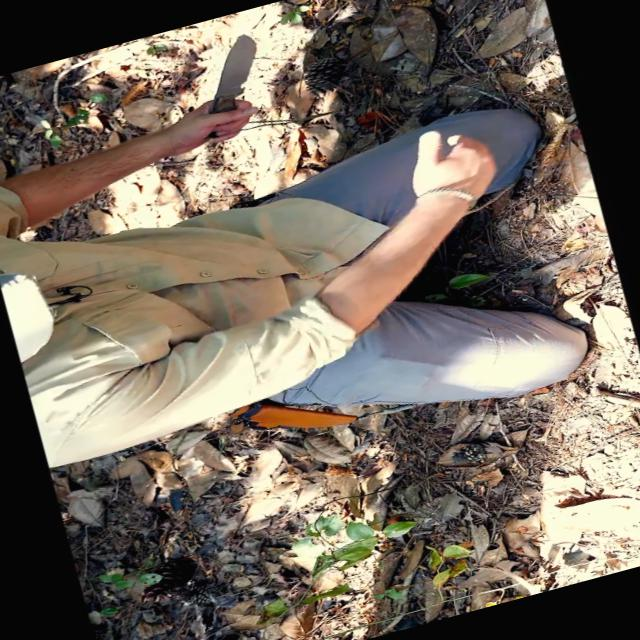knife: (169, 22, 288, 151)
